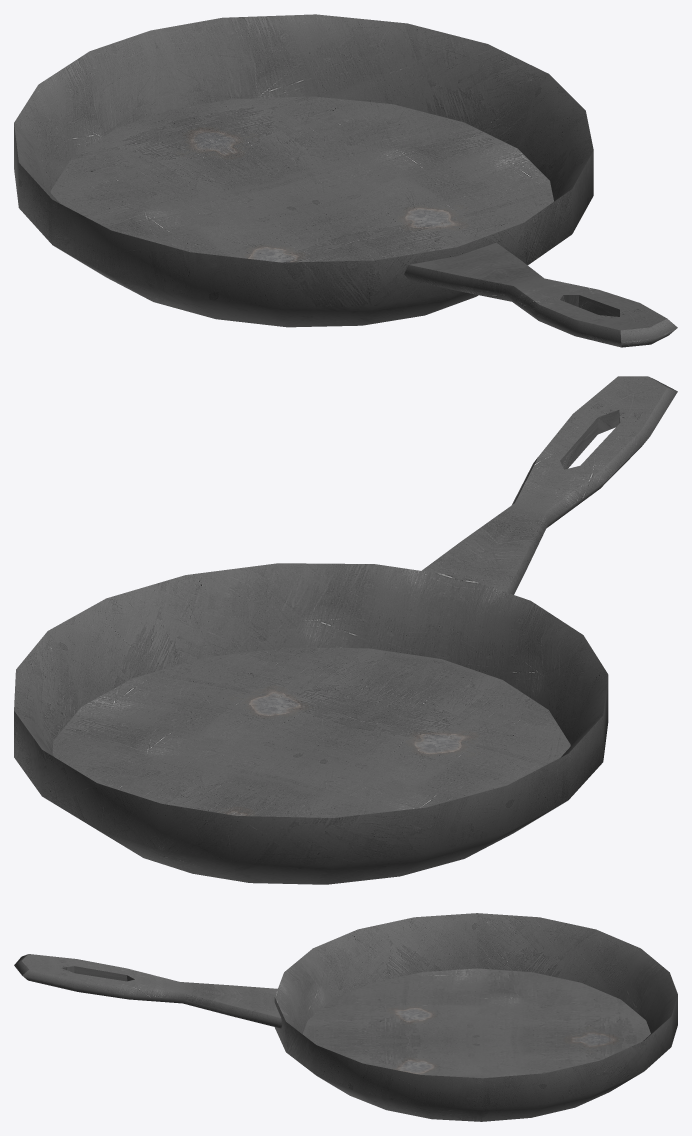
Rendered from Pan.fbx.
3 views of the same model, one above another, from view 1: azimuth 30°, elevation 25°; view 2: azimuth 150°, elevation 25°; view 3: azimuth 270°, elevation 25° (orthographic). The views are drawn at different scales.
Visible parts, largest first — view 1: Sarten; view 2: Sarten; view 3: Sarten.
Boxes of the visible parts, left/top/right/bottom form: Sarten: left=14, top=14, right=677, bottom=347; Sarten: left=14, top=376, right=677, bottom=884; Sarten: left=14, top=913, right=677, bottom=1121.
Bounding box in the file's own units: 46.17 × 12.92 × 78.45.
